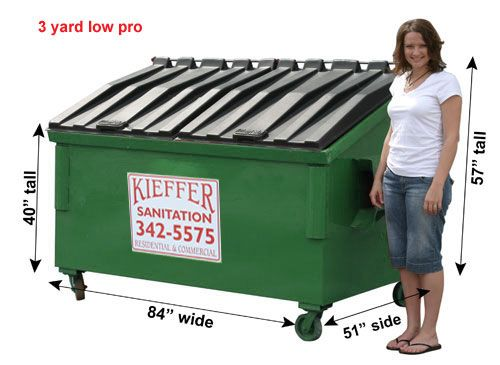Dumpster: (39, 53, 423, 335)
Person: (366, 17, 459, 357)
